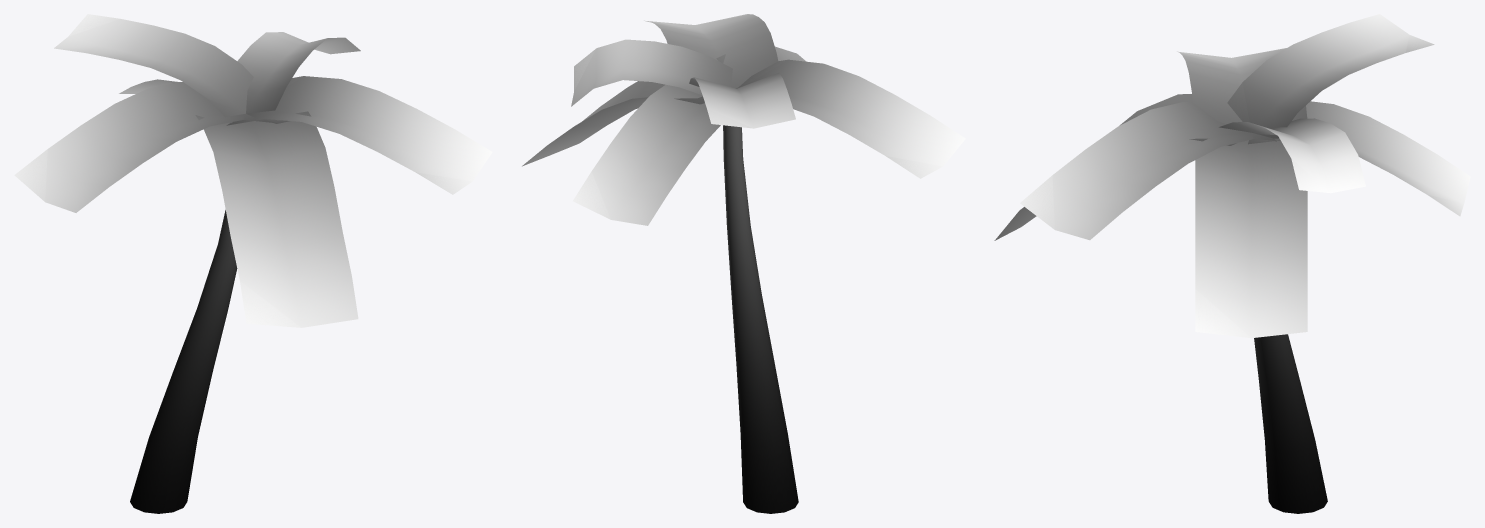
Rendered from PalmTreeMerged.fbx.
3 views of the same model, side by side, from view 1: azimuth 30°, elevation 25°; view 2: azimuth 150°, elevation 25°; view 3: azimuth 270°, elevation 25° (orthographic). The views are drawn at different scales.
Parts seen in each view (by area): view 1: tree2; view 2: tree2; view 3: tree2.
Boxes of the visible parts, x1,y1,x2,y2 form: tree2: [14, 14, 492, 513]; tree2: [522, 14, 965, 513]; tree2: [994, 14, 1470, 513].
Bounding box in the file's own units: 13.02 × 13.63 × 12.93.
Materials: 3 (3 with a texture image).
